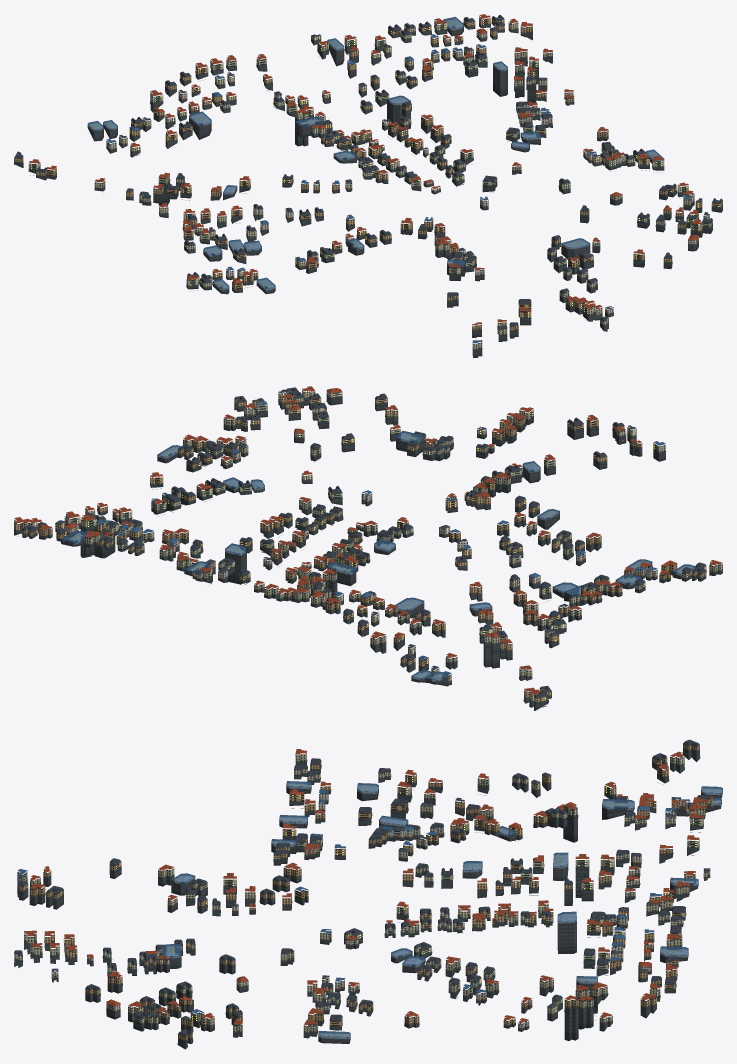
File: osm_buildings_T_E00_S02_Q1.glb
The picture shows the model from 3 angles, top to bottom: view 1: azimuth 30°, elevation 25°; view 2: azimuth 150°, elevation 25°; view 3: azimuth 270°, elevation 25°; orthographic projection. The views are drawn at different scales.
Parts seen in each view (by area): view 1: OSM_T_E00_S02_Q1_foundation, OSM_T_E00_S02_Q1_wall_cream_stucco, OSM_T_E00_S02_Q1_wall_french_ochre, OSM_T_E00_S02_Q1_roof_terracotta, OSM_T_E00_S02_Q1_roof_mansard_slate, OSM_T_E00_S02_Q1_greenhouse_blend, OSM_T_E00_S02_Q1_roof_mansard_deck, OSM_T_E00_S02_Q1_roof_mint_metal, OSM_T_E00_S02_Q1_trim_cornice, OSM_T_E00_S02_Q1_balcony_railing, OSM_T_E00_S02_Q1_wall_warm_white, OSM_T_E00_S02_Q1_roof_alpine_blue (+1 smaller); view 2: OSM_T_E00_S02_Q1_foundation, OSM_T_E00_S02_Q1_wall_french_ochre, OSM_T_E00_S02_Q1_wall_cream_stucco, OSM_T_E00_S02_Q1_roof_terracotta, OSM_T_E00_S02_Q1_roof_mansard_slate, OSM_T_E00_S02_Q1_greenhouse_blend, OSM_T_E00_S02_Q1_roof_mansard_deck, OSM_T_E00_S02_Q1_roof_mint_metal, OSM_T_E00_S02_Q1_wall_warm_white, OSM_T_E00_S02_Q1_trim_cornice, OSM_T_E00_S02_Q1_balcony_railing, OSM_T_E00_S02_Q1_roof_alpine_blue (+2 smaller); view 3: OSM_T_E00_S02_Q1_foundation, OSM_T_E00_S02_Q1_wall_cream_stucco, OSM_T_E00_S02_Q1_wall_french_ochre, OSM_T_E00_S02_Q1_roof_terracotta, OSM_T_E00_S02_Q1_roof_mansard_slate, OSM_T_E00_S02_Q1_greenhouse_blend, OSM_T_E00_S02_Q1_roof_mansard_deck, OSM_T_E00_S02_Q1_trim_cornice, OSM_T_E00_S02_Q1_roof_mint_metal, OSM_T_E00_S02_Q1_wall_warm_white, OSM_T_E00_S02_Q1_roof_alpine_blue, OSM_T_E00_S02_Q1_balcony_railing (+2 smaller).
Boxes of the visible parts, bbox=[...] form: OSM_T_E00_S02_Q1_foundation: bbox=[14, 22, 722, 357]; OSM_T_E00_S02_Q1_wall_cream_stucco: bbox=[28, 20, 712, 349]; OSM_T_E00_S02_Q1_wall_french_ochre: bbox=[14, 16, 722, 330]; OSM_T_E00_S02_Q1_roof_terracotta: bbox=[29, 14, 707, 325]; OSM_T_E00_S02_Q1_roof_mansard_slate: bbox=[14, 15, 722, 328]; OSM_T_E00_S02_Q1_greenhouse_blend: bbox=[87, 16, 664, 290]; OSM_T_E00_S02_Q1_roof_mansard_deck: bbox=[15, 15, 721, 324]; OSM_T_E00_S02_Q1_roof_mint_metal: bbox=[14, 22, 720, 332]; OSM_T_E00_S02_Q1_trim_cornice: bbox=[14, 19, 710, 344]; OSM_T_E00_S02_Q1_balcony_railing: bbox=[14, 20, 719, 315]; OSM_T_E00_S02_Q1_wall_warm_white: bbox=[226, 31, 698, 313]; OSM_T_E00_S02_Q1_roof_alpine_blue: bbox=[106, 34, 692, 343]; OSM_T_E00_S02_Q1_foundation: bbox=[14, 394, 722, 710]; OSM_T_E00_S02_Q1_wall_french_ochre: bbox=[14, 397, 706, 702]; OSM_T_E00_S02_Q1_wall_cream_stucco: bbox=[21, 390, 722, 701]; OSM_T_E00_S02_Q1_roof_terracotta: bbox=[14, 386, 722, 694]; OSM_T_E00_S02_Q1_roof_mansard_slate: bbox=[22, 388, 706, 697]; OSM_T_E00_S02_Q1_greenhouse_blend: bbox=[61, 430, 695, 682]; OSM_T_E00_S02_Q1_roof_mansard_deck: bbox=[24, 387, 704, 695]; OSM_T_E00_S02_Q1_roof_mint_metal: bbox=[14, 398, 722, 707]; OSM_T_E00_S02_Q1_wall_warm_white: bbox=[64, 390, 657, 587]; OSM_T_E00_S02_Q1_trim_cornice: bbox=[14, 390, 720, 704]; OSM_T_E00_S02_Q1_balcony_railing: bbox=[18, 391, 720, 707]; OSM_T_E00_S02_Q1_roof_alpine_blue: bbox=[96, 401, 665, 675]; OSM_T_E00_S02_Q1_foundation: bbox=[14, 748, 722, 1049]; OSM_T_E00_S02_Q1_wall_cream_stucco: bbox=[14, 753, 712, 1033]; OSM_T_E00_S02_Q1_wall_french_ochre: bbox=[17, 744, 710, 1041]; OSM_T_E00_S02_Q1_roof_terracotta: bbox=[24, 749, 712, 1025]; OSM_T_E00_S02_Q1_roof_mansard_slate: bbox=[14, 741, 710, 1036]; OSM_T_E00_S02_Q1_greenhouse_blend: bbox=[161, 781, 722, 1039]; OSM_T_E00_S02_Q1_roof_mansard_deck: bbox=[15, 739, 721, 1038]; OSM_T_E00_S02_Q1_trim_cornice: bbox=[14, 745, 709, 1038]; OSM_T_E00_S02_Q1_roof_mint_metal: bbox=[14, 752, 710, 1045]; OSM_T_E00_S02_Q1_wall_warm_white: bbox=[51, 793, 651, 1011]; OSM_T_E00_S02_Q1_roof_alpine_blue: bbox=[18, 789, 689, 1014]; OSM_T_E00_S02_Q1_balcony_railing: bbox=[23, 754, 708, 1025].
Size of the model in its own units: 898 by 149 by 925.
Materials: 16 (16 with a texture image).
